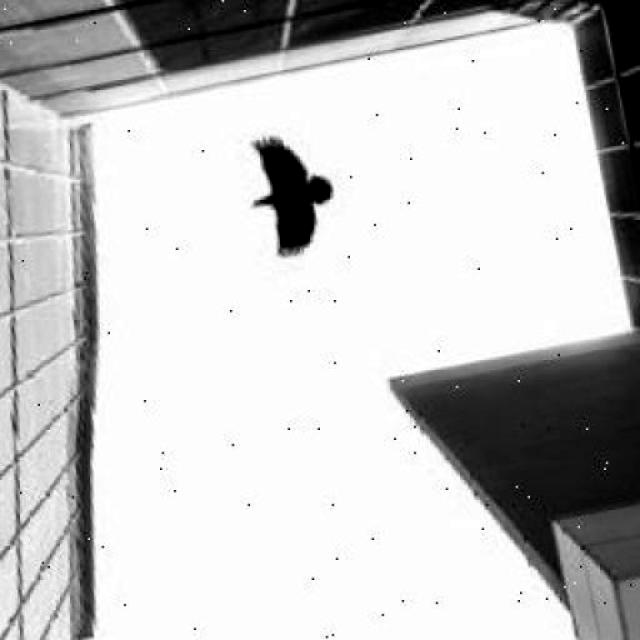airplane: (235, 125, 342, 265)
